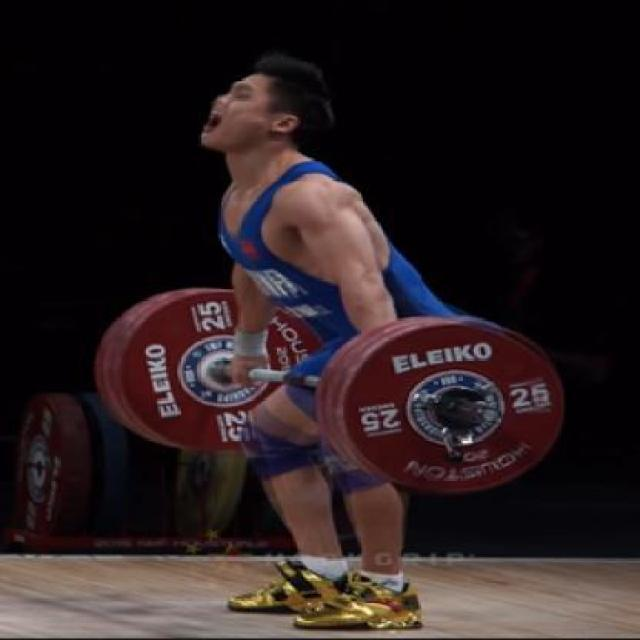barbell: (338, 317, 569, 499)
